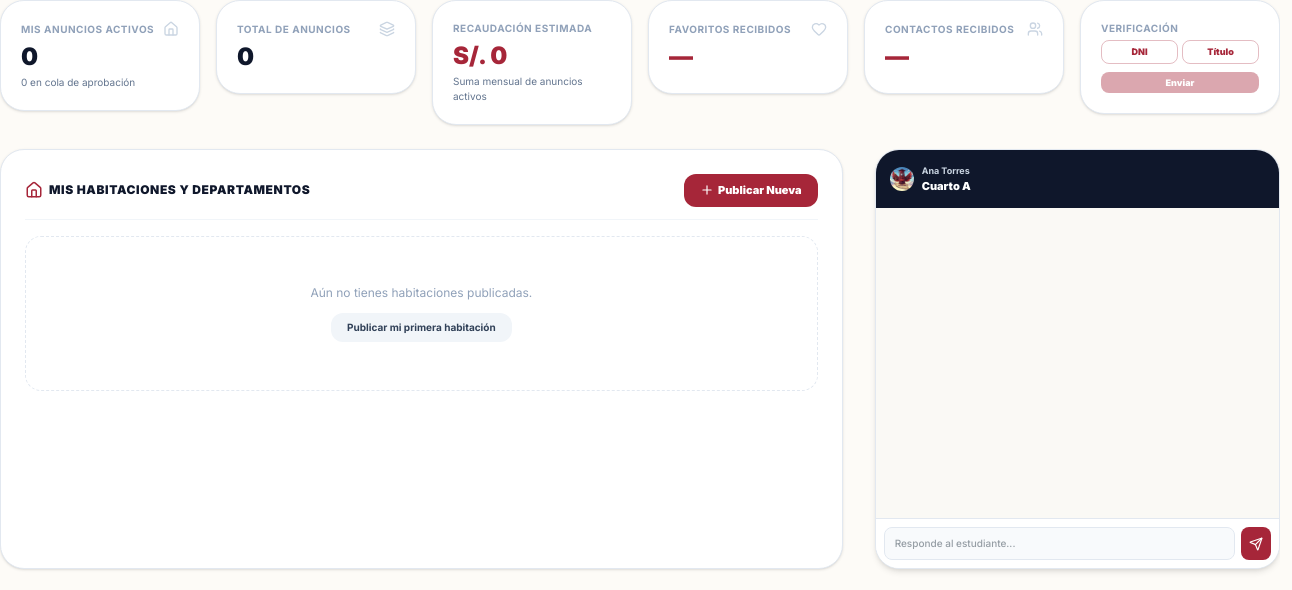
Scenario: LandlordDashboard › selecciona el primer chat automaticamente y permite responder
Step 1. Type "Claro, sigue disponible" into the field with placeholder "Responde al estudiante..." → (1059, 544), box [884,527,1235,560]
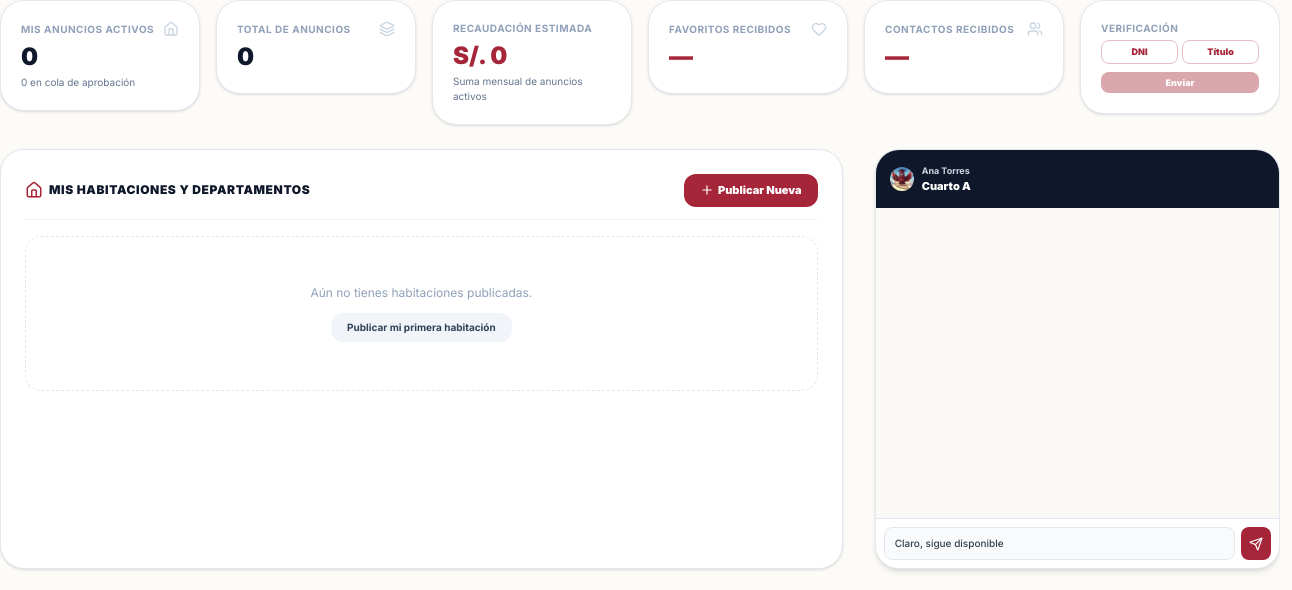
Step 2. Submit the form with placeholder "Responde al estudiante...", box [876,518,1279,568]
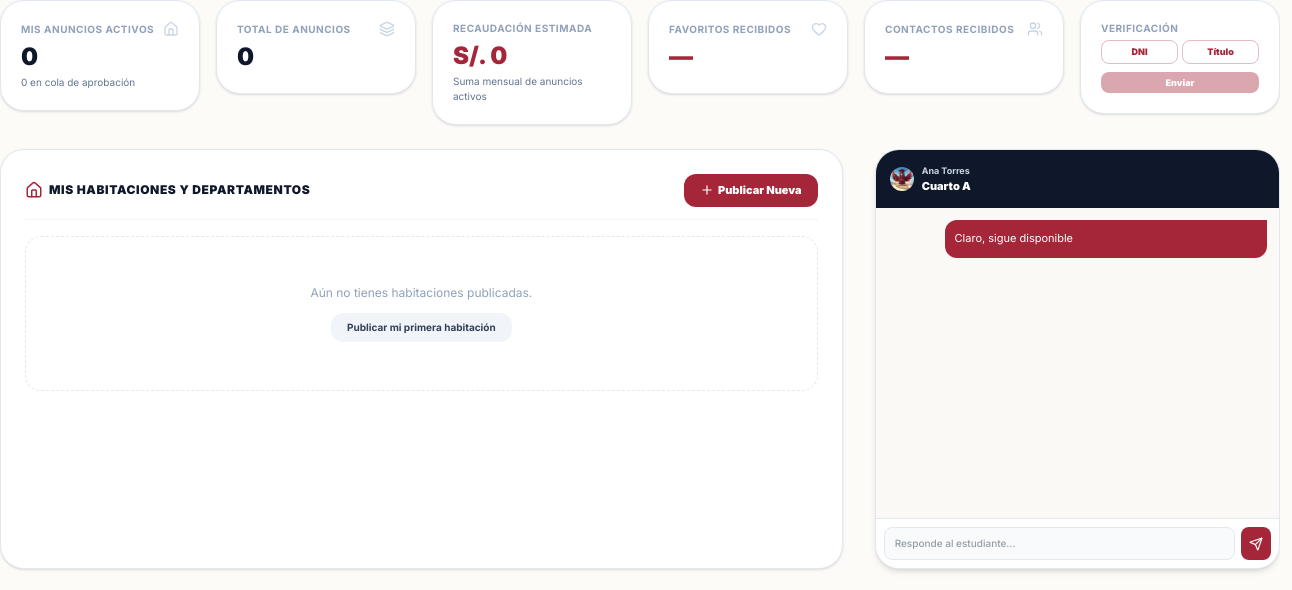
Expected: the text "Claro, sigue disponible" is shown, [945,220,1267,258]
